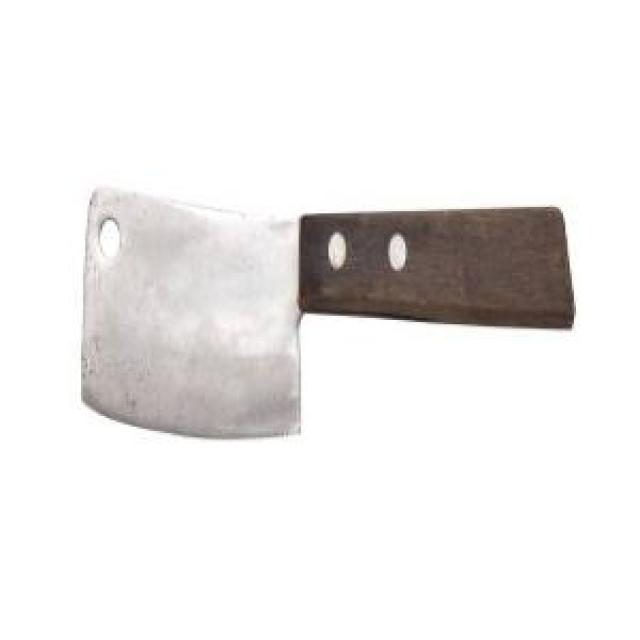knife: (81, 201, 577, 434)
